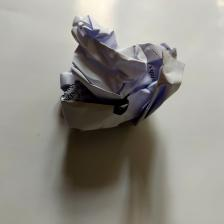Paper: (42, 18, 194, 144)
